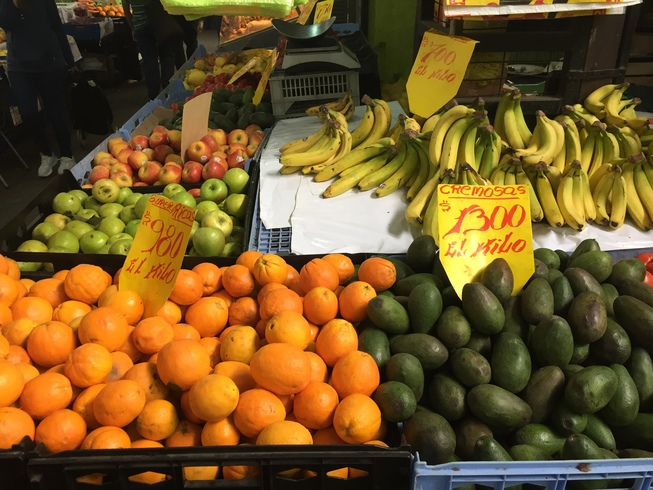precio: (435, 167, 548, 327), (118, 179, 209, 320), (403, 21, 480, 130), (253, 48, 292, 113), (230, 53, 264, 91), (313, 1, 337, 28)
